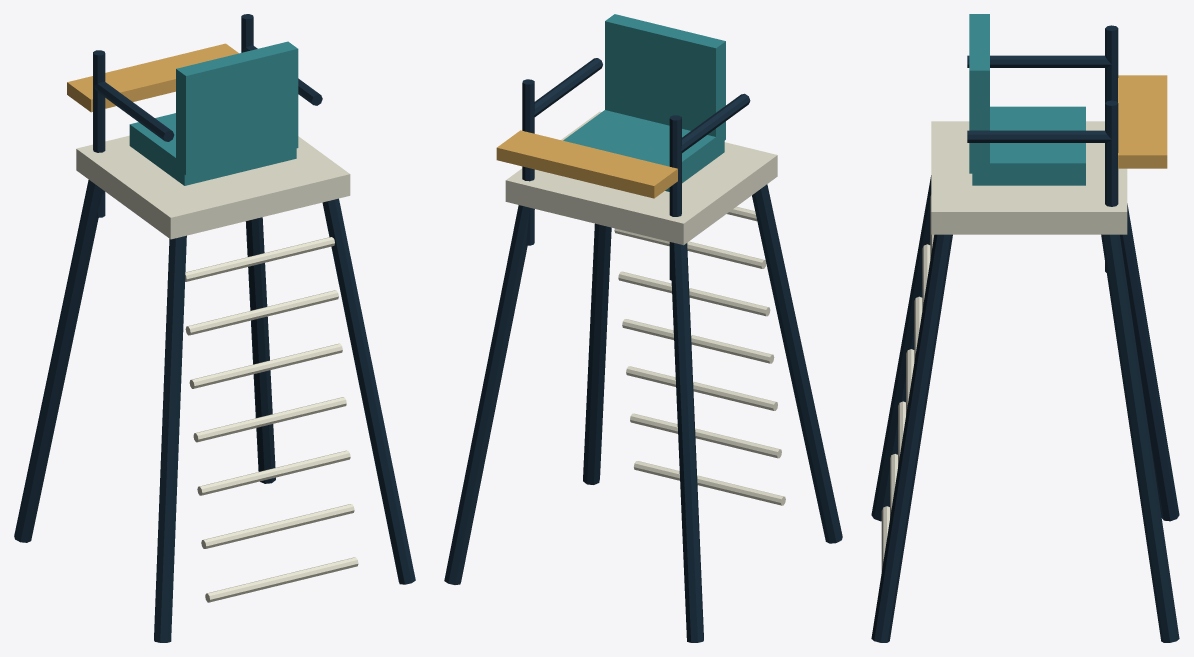
Rendered from umpire-chair.glb.
3 views of the same model, side by side, from view 1: azimuth 30°, elevation 25°; view 2: azimuth 150°, elevation 25°; view 3: azimuth 270°, elevation 25° (orthographic). The views are drawn at different scales.
Visible parts, largest first — view 1: umpire-chair; view 2: umpire-chair; view 3: umpire-chair.
Boxes of the visible parts, box(x1,y1,x2,y2) form: umpire-chair: box(14, 14, 415, 642); umpire-chair: box(444, 14, 842, 642); umpire-chair: box(871, 14, 1179, 642).
Size of the model in its own units: 1.51 by 2.87 by 1.49.
